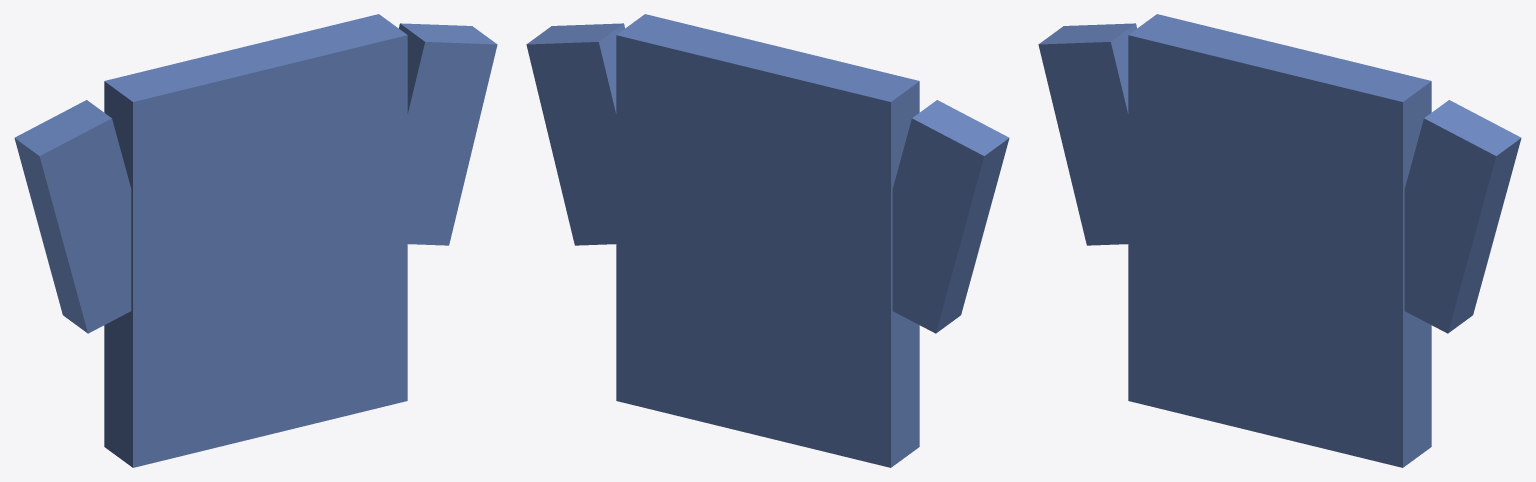
File: jeans.glb
The picture shows the model from 3 angles, left to right: view 1: azimuth 30°, elevation 25°; view 2: azimuth 150°, elevation 25°; view 3: azimuth 330°, elevation 25°; orthographic projection.
Parts seen in each view (by area): view 1: Clothes_Jeans_Torso, Clothes_Jeans_Sleeve, Clothes_Jeans_Sleeve.001; view 2: Clothes_Jeans_Torso, Clothes_Jeans_Sleeve, Clothes_Jeans_Sleeve.001; view 3: Clothes_Jeans_Torso, Clothes_Jeans_Sleeve.001, Clothes_Jeans_Sleeve.
Part boxes in pixels (x1,y1,x2,y2): Clothes_Jeans_Torso: (104,14,407,467); Clothes_Jeans_Sleeve: (14,100,131,333); Clothes_Jeans_Sleeve.001: (399,23,497,245); Clothes_Jeans_Torso: (616,14,919,467); Clothes_Jeans_Sleeve: (892,100,1009,333); Clothes_Jeans_Sleeve.001: (526,23,624,245); Clothes_Jeans_Torso: (1128,14,1431,467); Clothes_Jeans_Sleeve.001: (1404,100,1521,333); Clothes_Jeans_Sleeve: (1038,23,1136,245).
Size of the model in its own units: 0.3668 by 0.28 by 0.04.
